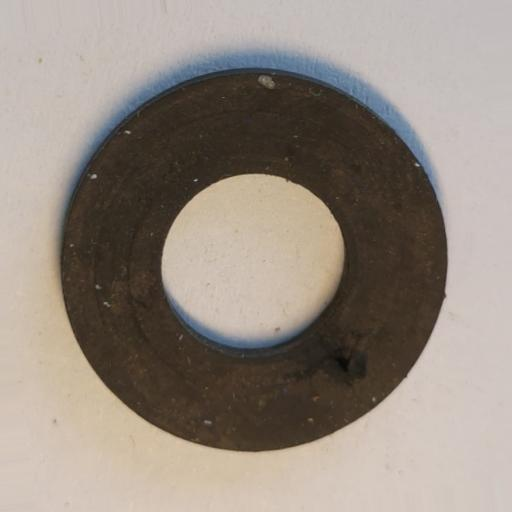defect: (280, 328, 368, 387)
